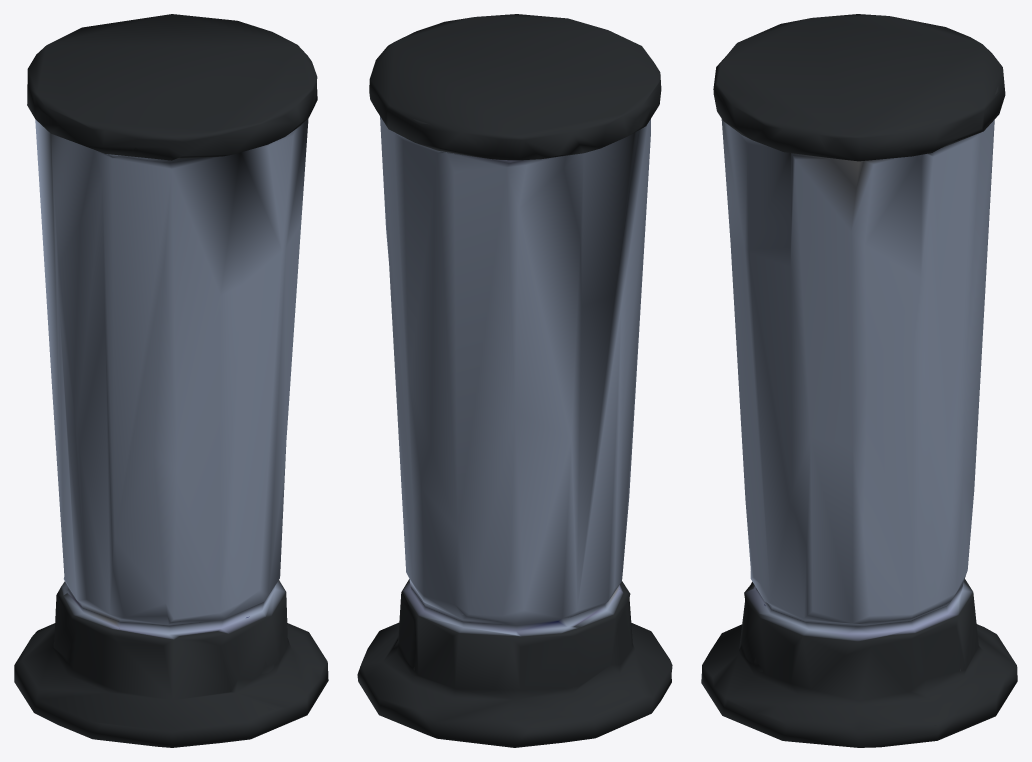
Rendered from gen3d-blender-lod1.glb.
3 views of the same model, side by side, from view 1: azimuth 30°, elevation 25°; view 2: azimuth 150°, elevation 25°; view 3: azimuth 270°, elevation 25° (orthographic).
Parts seen in each view (by area): view 1: part_0; view 2: part_0; view 3: part_0.
Part boxes in pixels (x1,y1,x2,y2): part_0: (14,14,328,747); part_0: (357,14,672,747); part_0: (701,14,1017,747).
Bounding box in the file's own units: 0.472 × 1 × 0.4712.
